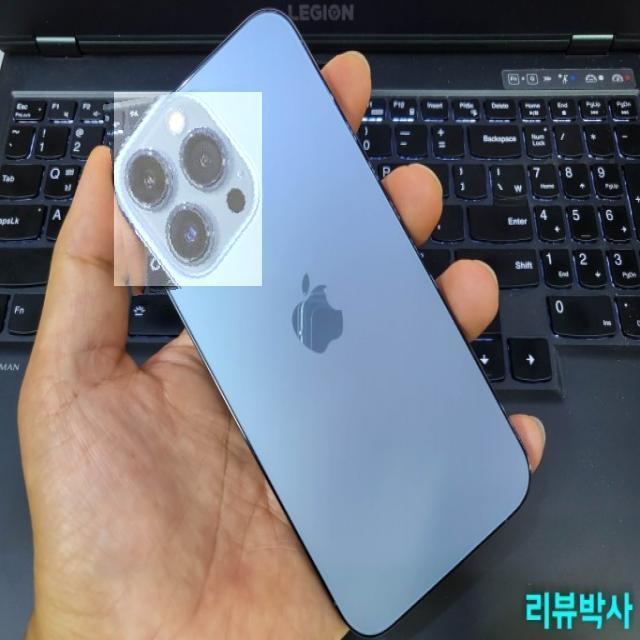phone: (111, 18, 534, 631)
